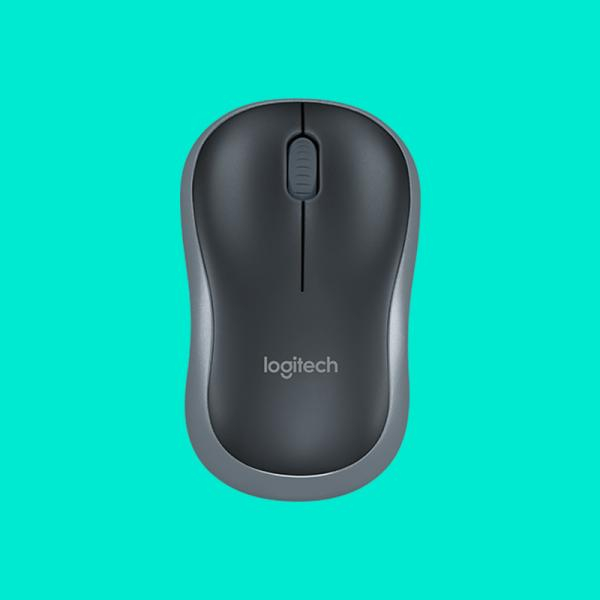logitech-mouse-m185: (177, 99, 424, 504)
